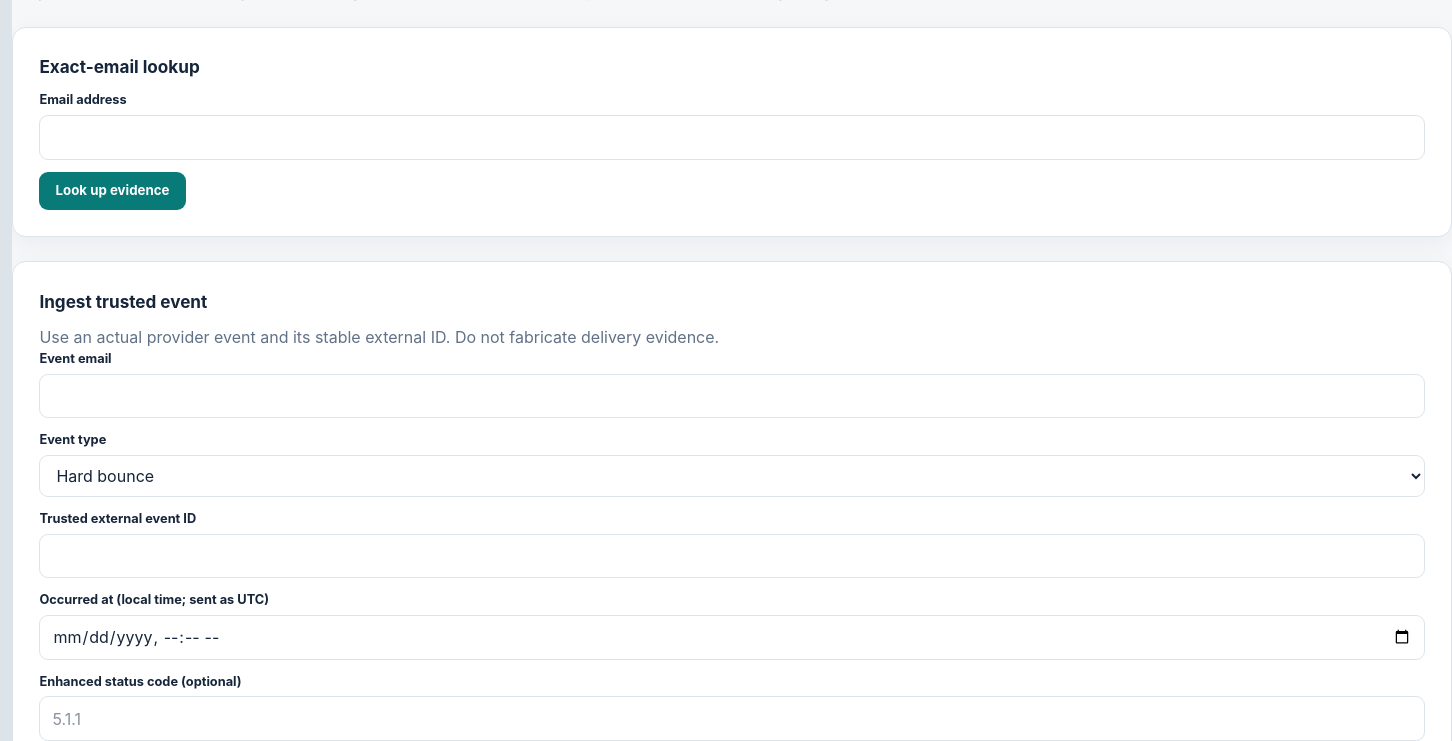
Test: EvidencePage › shows safe 401 errors without retrying failed ingest
This screenshot has width=1452, height=741.
Type "person@example.test" into the field labelled "Event email" at (732, 396), box [39,374,1425,418]
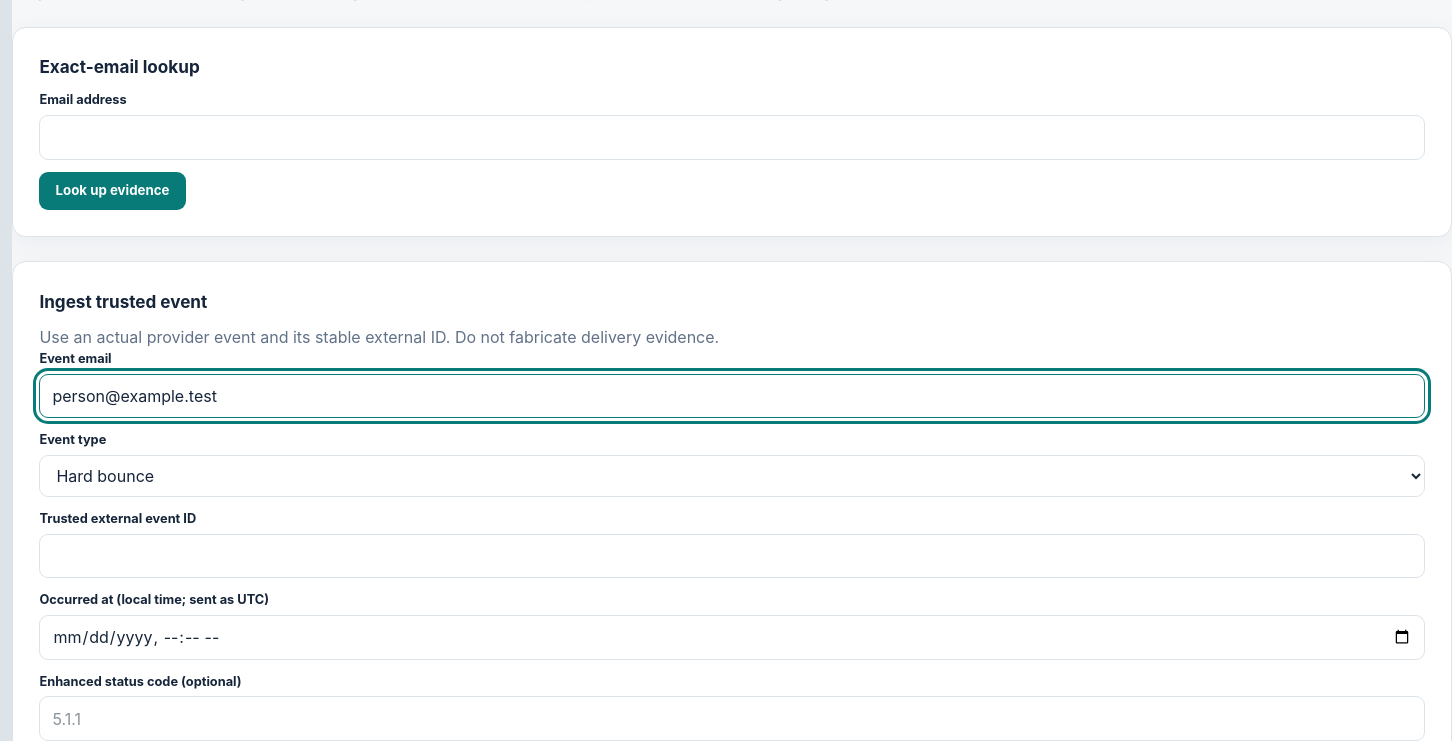
Type "provider-77" into the field labelled "Trusted external event ID" at (732, 556), box [39,534,1425,578]
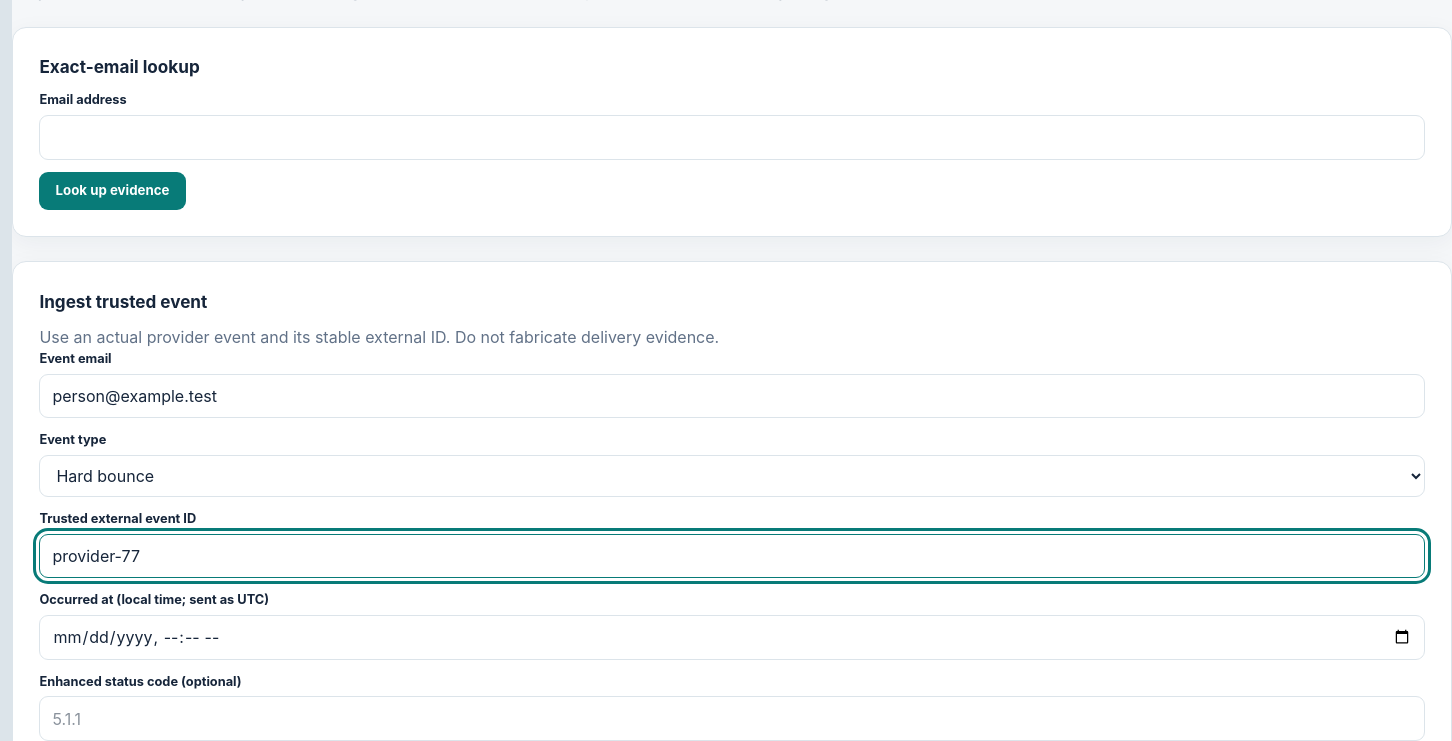
Type "2026-10-20T12:00" into the field labelled "Occurred at (local time; sent as UTC)" at (732, 637), box [39,615,1425,660]
(page scrolled)
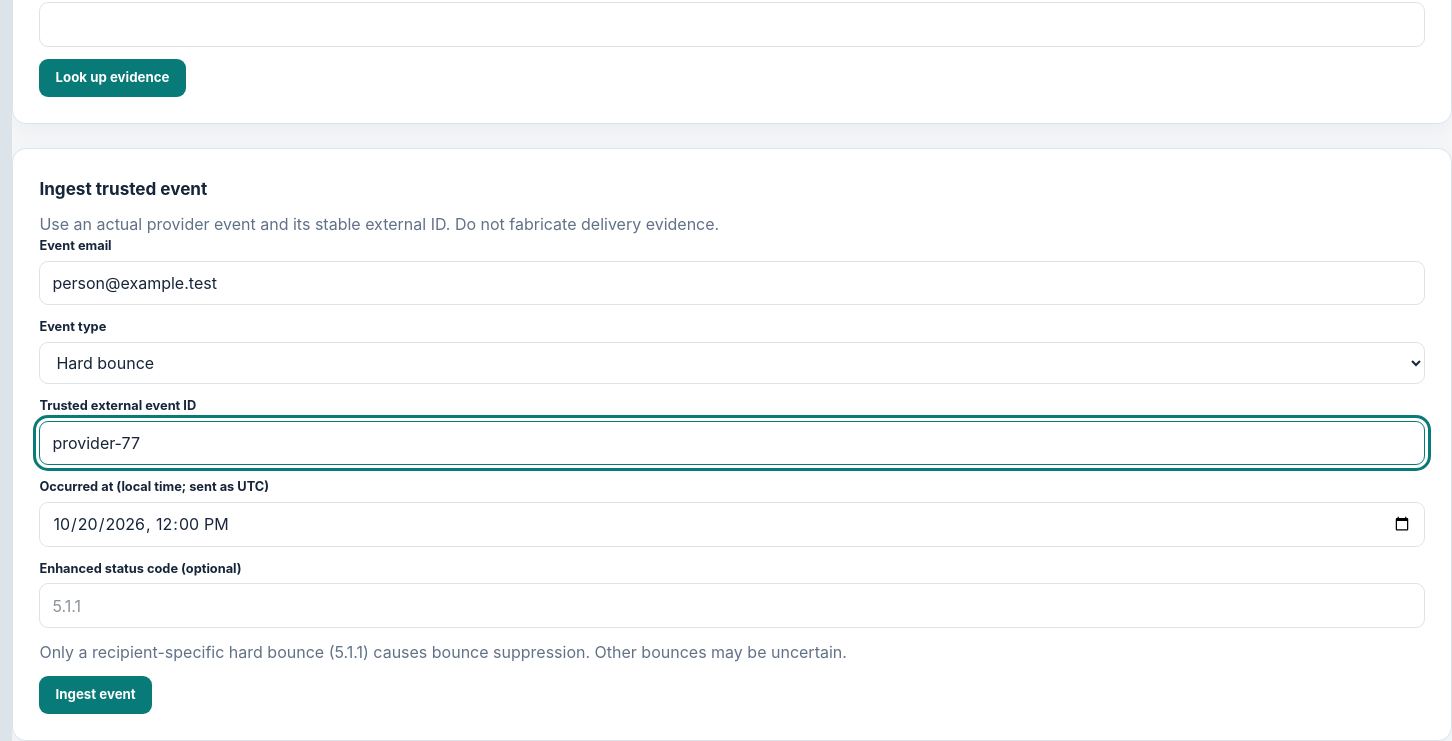
Click the button "Ingest event" at (96, 695), box [39,676,152,714]
(page scrolled)
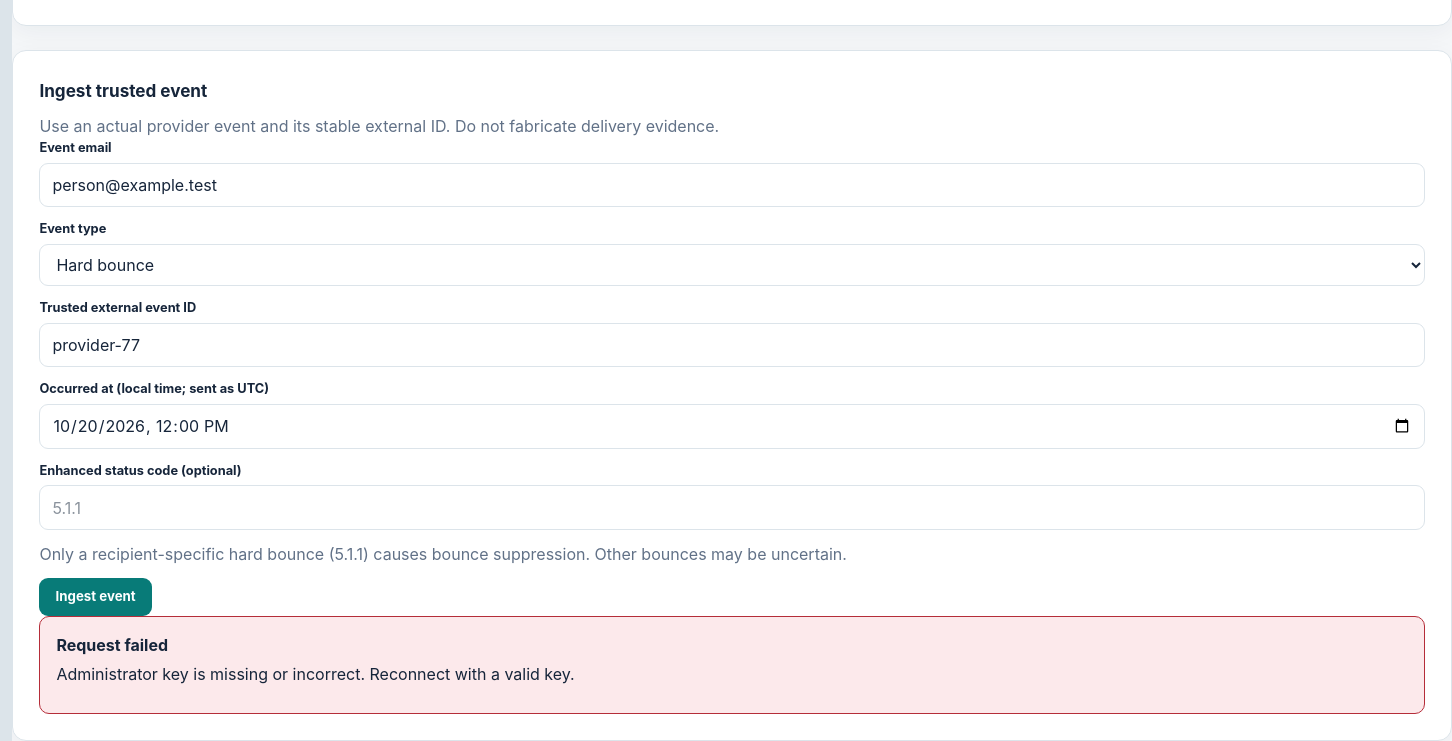
Now the message shows "Reconnect with a valid key", box [56,664,575,684]
